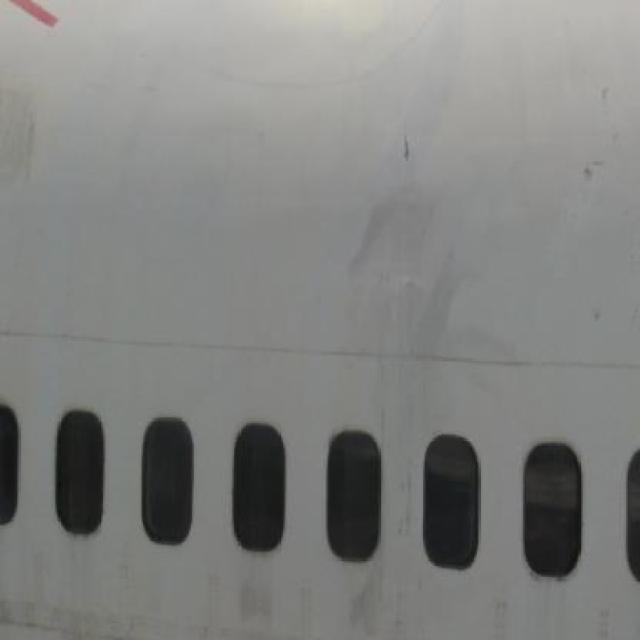Scartch: (576, 79, 633, 198), (387, 119, 416, 164)
